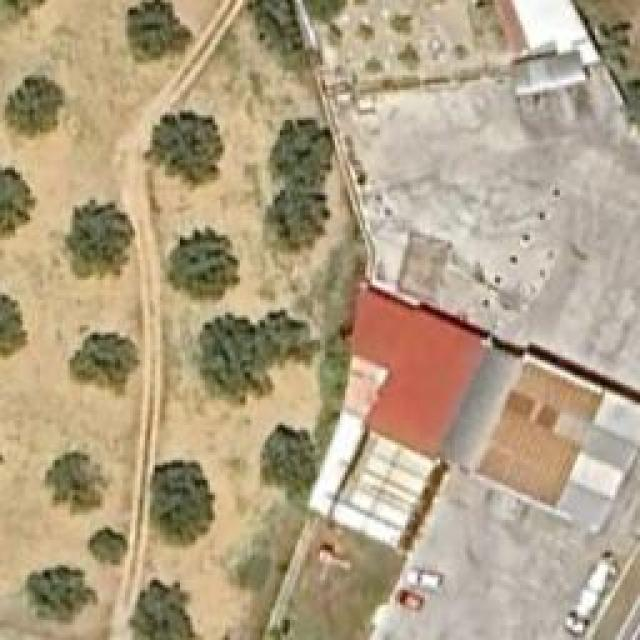Tree: (192, 310, 320, 403), (265, 120, 335, 250), (63, 200, 136, 278), (153, 460, 216, 538), (155, 113, 225, 183), (170, 228, 240, 298), (68, 333, 141, 396), (43, 450, 108, 513), (5, 75, 70, 138), (28, 565, 98, 623), (127, 0, 192, 62), (130, 580, 195, 640), (263, 425, 316, 498), (0, 163, 35, 238), (0, 293, 28, 363), (88, 528, 128, 571), (298, 0, 343, 25), (387, 10, 415, 35), (400, 43, 423, 68), (358, 18, 381, 43), (325, 23, 347, 46), (365, 53, 385, 76)
